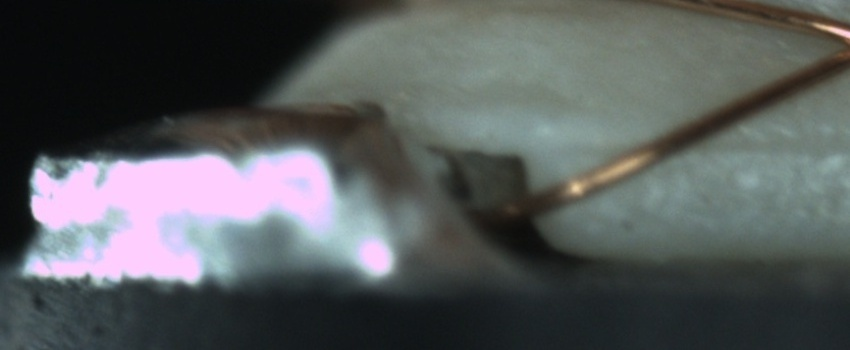CL: (807, 11, 850, 79)
DL: (606, 110, 849, 182)
